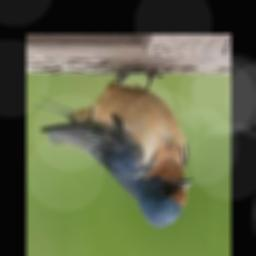Swallow: (32, 72, 194, 228)
